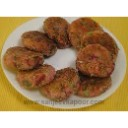cutlet: (67, 16, 119, 52), (44, 66, 78, 98), (74, 68, 113, 95), (77, 47, 114, 75), (19, 31, 56, 56), (13, 65, 58, 85), (5, 47, 44, 70), (42, 17, 72, 46)
